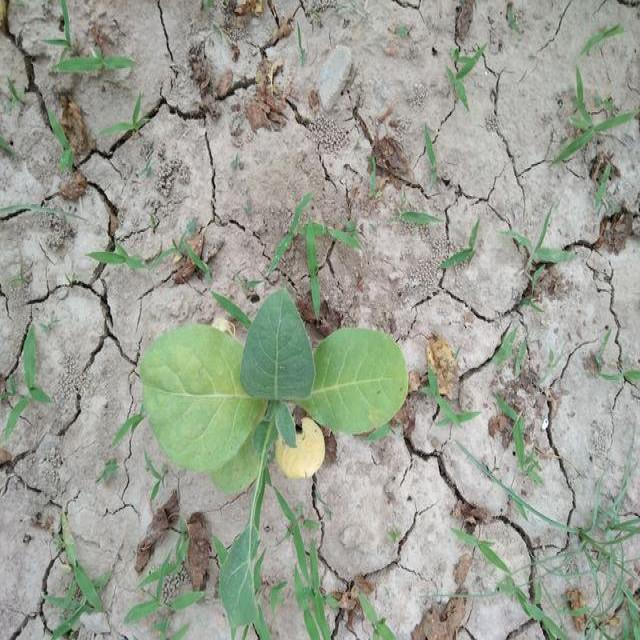crop: (125, 285, 416, 482)
